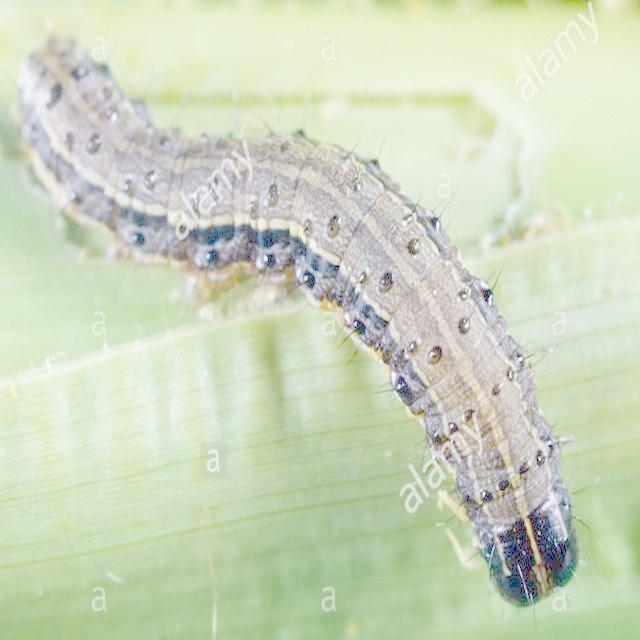gusano_cogollero: (18, 35, 594, 611)
